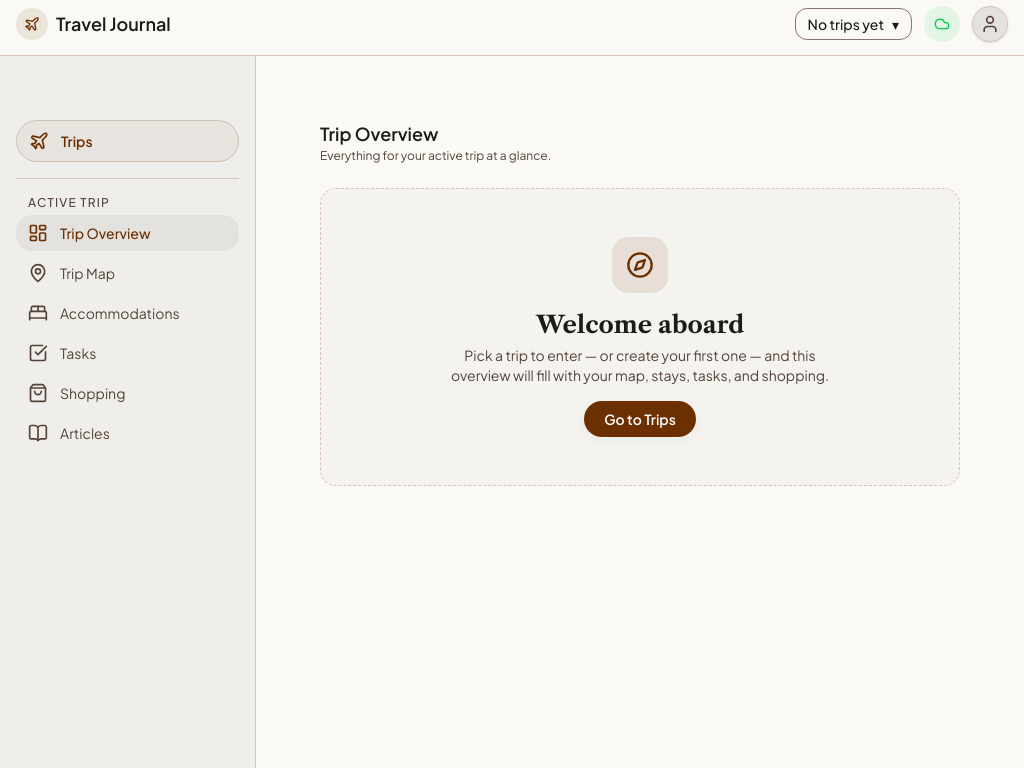
Shell › trip switcher prompts to create a trip when none exist
The image size is (1024, 768).
Click the button with test id "trip-switcher-trigger" at (853, 24), box x1=795 y1=8 x2=912 y2=40
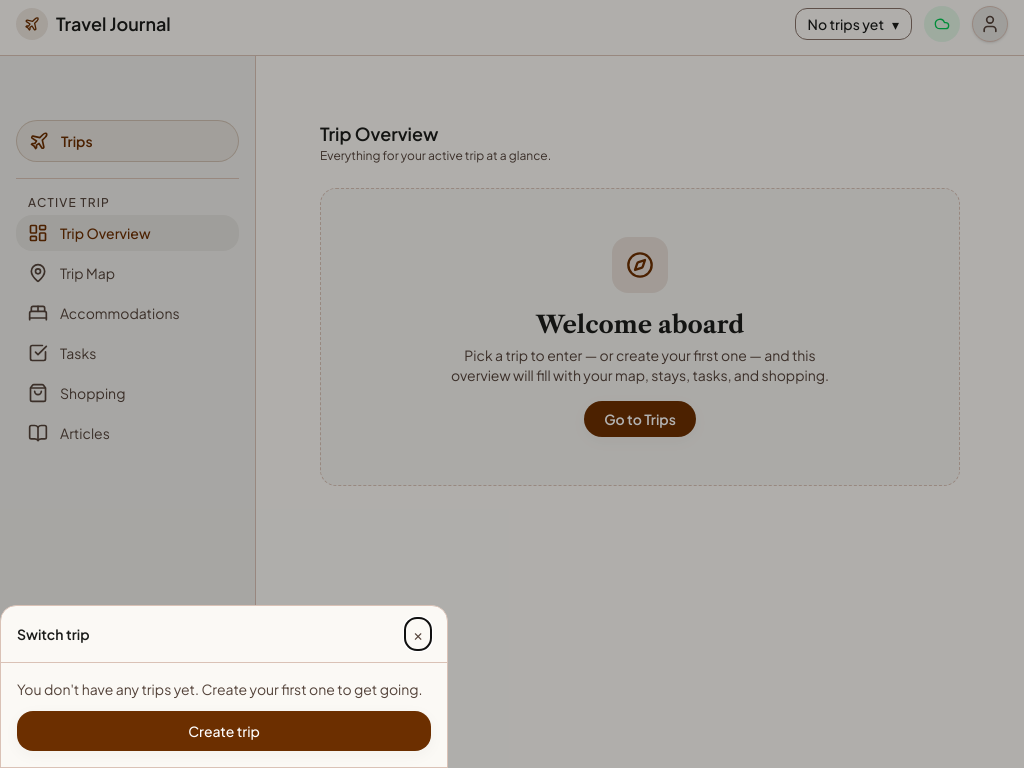
Result: the button with test id "trip-switcher-create" is shown at x1=17 y1=711 x2=431 y2=751
